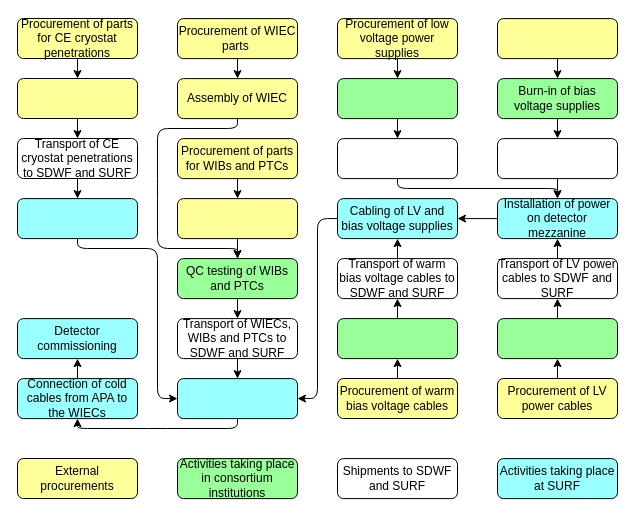
Some shapes in this 635 by 518 pixel diagram are drawn without their labels. The shapes that lost their labels are listed below. From the top down, each one's centre as x and y in pixels, then its label:
At (557,38): "Procurement of bias voltage supplies".
At (77,98): "Assembly of parts of CE cryostat penetrations".
At (397,98): "Burn-in of low voltage power supplies".
At (397,158): "Shipment of LV power supplies to SDWF and SURF".
At (557,158): "Shipment of bias voltage supplies to SDWF and SURF".
At (77,218): "Installation of CE penetrations on cryostat".
At (237,218): "Assembly of WIBs and TPCs".
At (397,338): "QC testing of warm bias voltage cables".
At (557,338): "QC testing of LV power cables".
At (237,398): "Installation of the WIECs on the cryostat penetrations".
